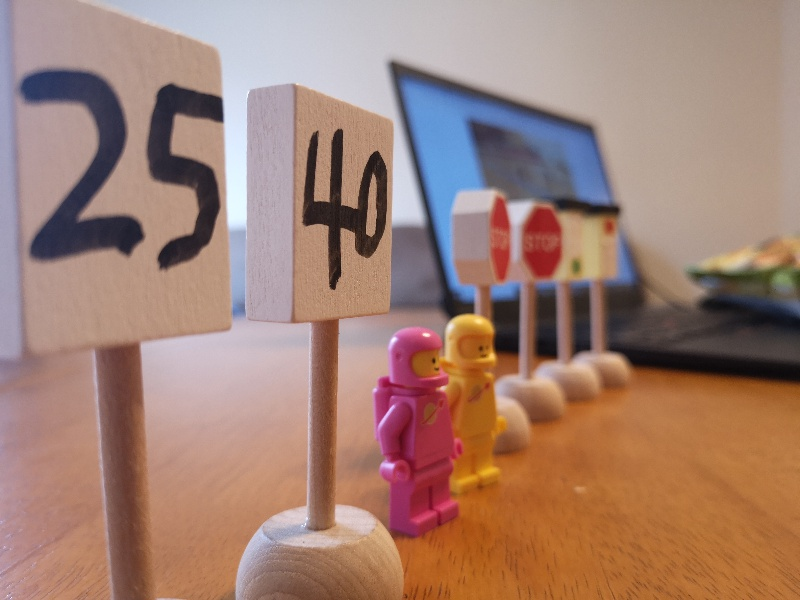Green Traffic Light: (557, 196, 587, 287)
Person: (372, 328, 465, 538), (444, 314, 510, 493)
Red Traffic Light: (586, 204, 621, 284)
Speed Limit 25: (1, 2, 234, 358)
Speed Limit 40: (247, 85, 393, 323)
Stop Sign: (451, 190, 512, 291), (508, 199, 563, 285)
